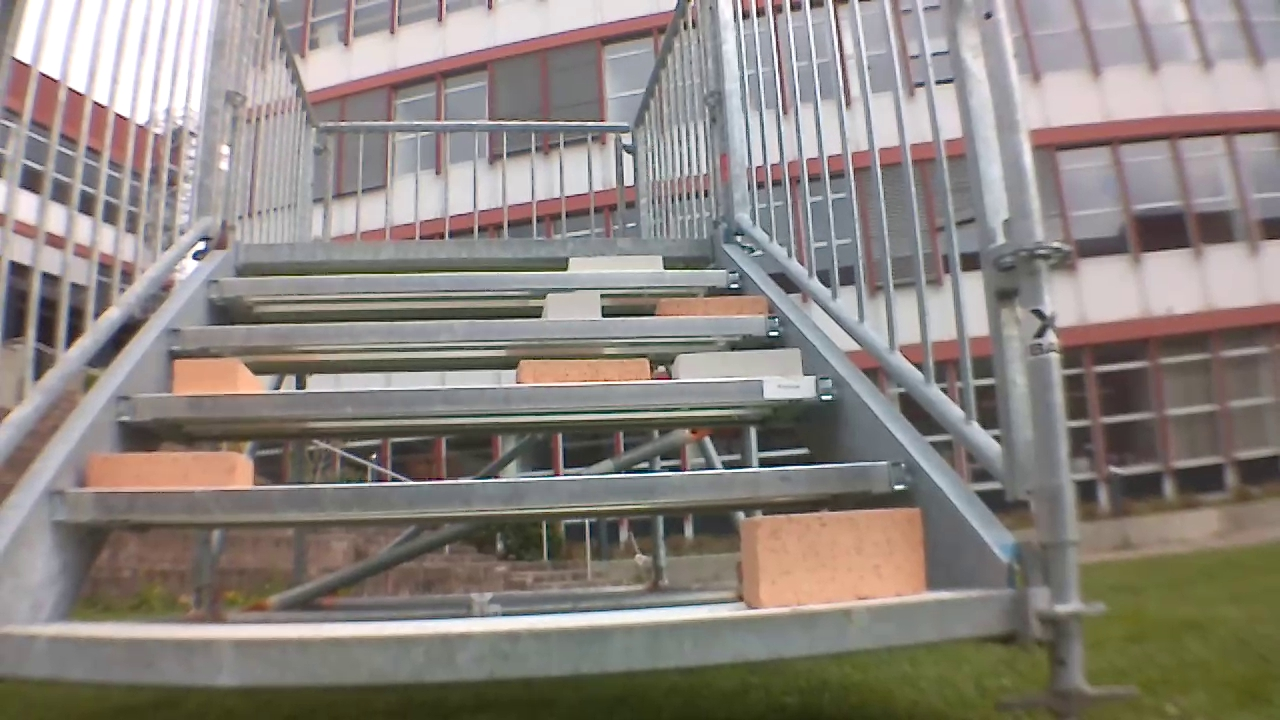brick: (744, 502, 932, 607), (78, 454, 263, 488), (667, 346, 804, 385), (514, 350, 655, 385), (654, 294, 764, 319), (563, 253, 661, 273), (546, 289, 605, 320)
edge: (0, 585, 1029, 684), (45, 457, 903, 524), (119, 372, 843, 433), (163, 312, 789, 358), (205, 269, 744, 299), (240, 241, 720, 261)
stairs: (0, 2, 1076, 720)
steps: (0, 237, 1074, 683)
